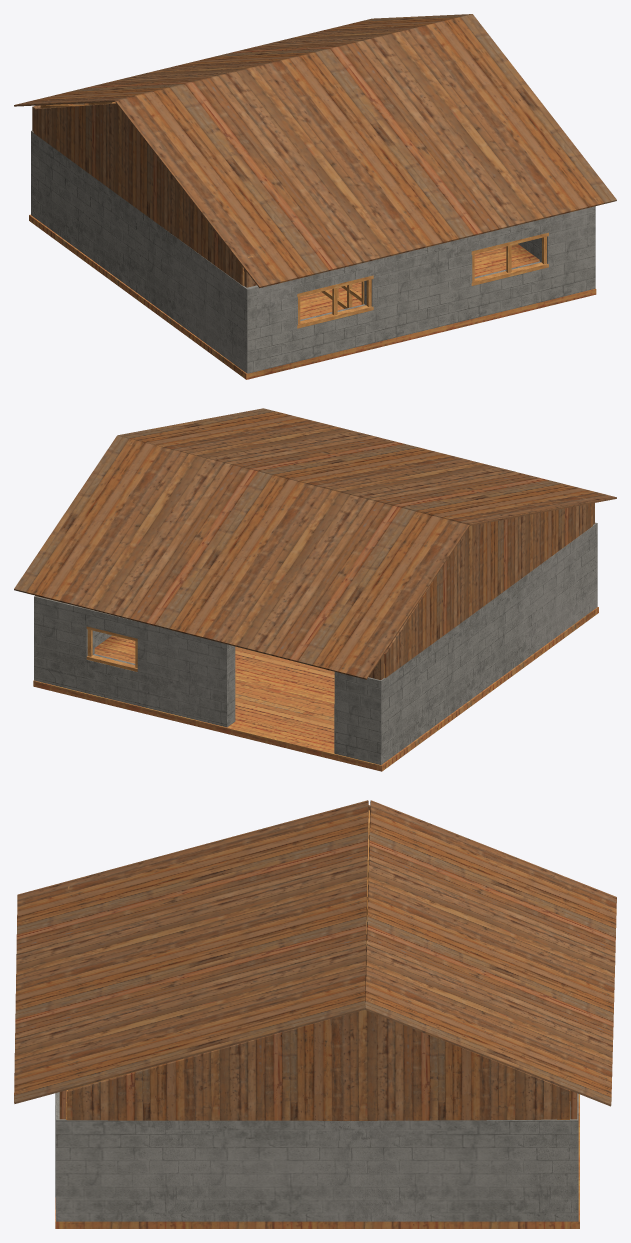
File: Electrical_consturction_wireHouse.fbx
3 views of the same model, one above another, from view 1: azimuth 30°, elevation 25°; view 2: azimuth 150°, elevation 25°; view 3: azimuth 270°, elevation 25° (orthographic). The views are drawn at different scales.
Parts seen in each view (by area): view 1: LMETB_wirehouse_roof_01_geo, LMETB_wirehouse_wall_01_geo1, LMETB_wirehouse_floor_01_geo; view 2: LMETB_wirehouse_roof_01_geo, LMETB_wirehouse_wall_01_geo1, LMETB_wirehouse_floor_01_geo; view 3: LMETB_wirehouse_roof_01_geo, LMETB_wirehouse_wall_01_geo1, LMETB_wirehouse_floor_01_geo.
Boxes of the visible parts, bbox=[...] form: LMETB_wirehouse_roof_01_geo: bbox=[14, 14, 616, 288]; LMETB_wirehouse_wall_01_geo1: bbox=[31, 130, 595, 373]; LMETB_wirehouse_floor_01_geo: bbox=[29, 214, 596, 379]; LMETB_wirehouse_roof_01_geo: bbox=[14, 408, 616, 680]; LMETB_wirehouse_wall_01_geo1: bbox=[34, 522, 597, 764]; LMETB_wirehouse_floor_01_geo: bbox=[33, 607, 598, 771]; LMETB_wirehouse_roof_01_geo: bbox=[14, 800, 616, 1120]; LMETB_wirehouse_wall_01_geo1: bbox=[55, 1090, 578, 1221]; LMETB_wirehouse_floor_01_geo: bbox=[55, 1094, 579, 1228].
Size of the model in its own units: 88.74 by 43.85 by 107.
1 material, 1 textured.
